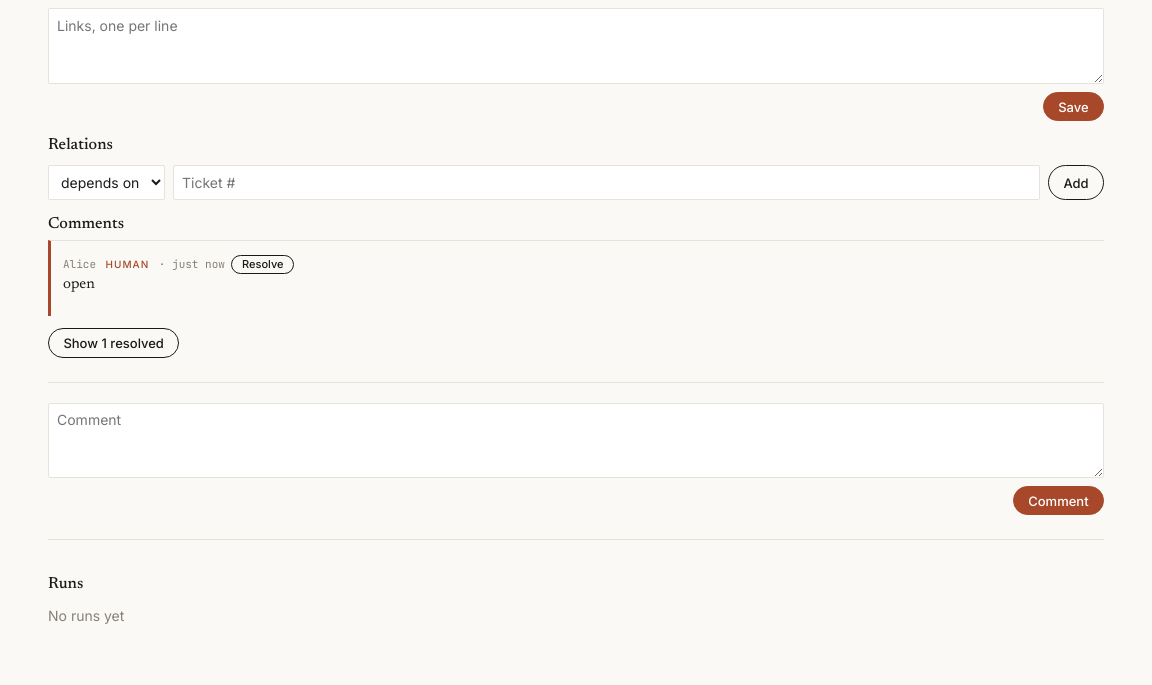
resolved comments are hidden behind a toggle
The width and height of the screenshot is (1152, 685).
(page scrolled)
What coordinates should you click on to do the following:
click the button "Show 1 resolved"
I would click on:
 (114, 343)
Its box is [48,328,179,358].
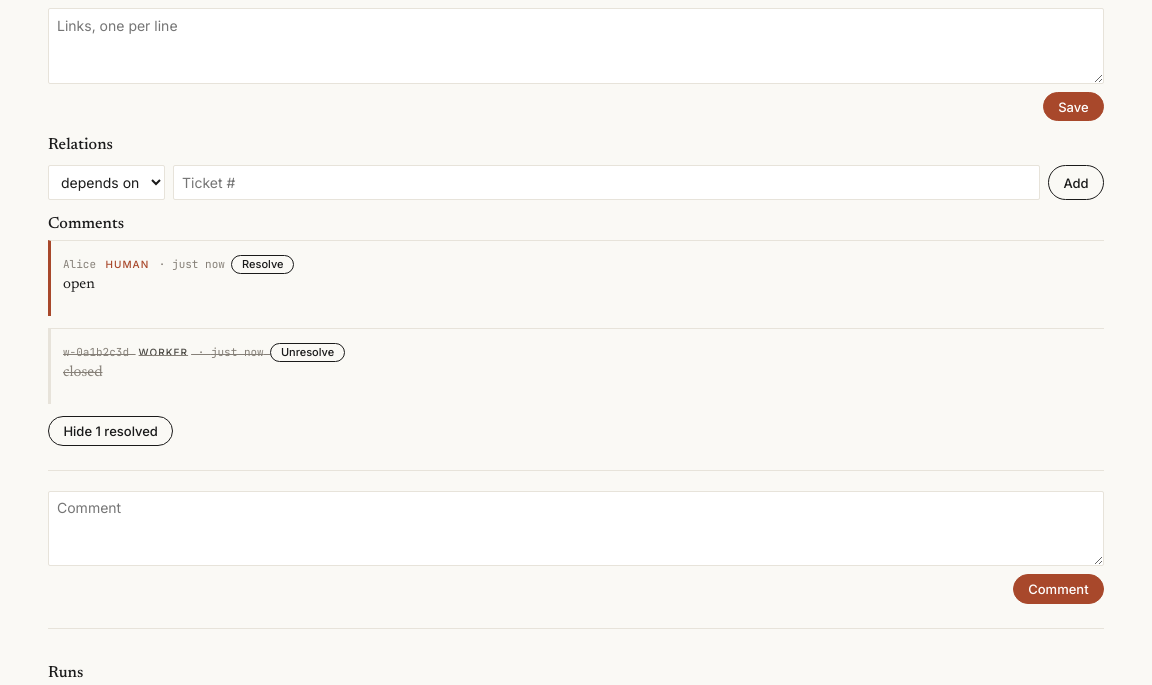
Result: the button "Hide 1 resolved" is shown at [48,416,173,446]
